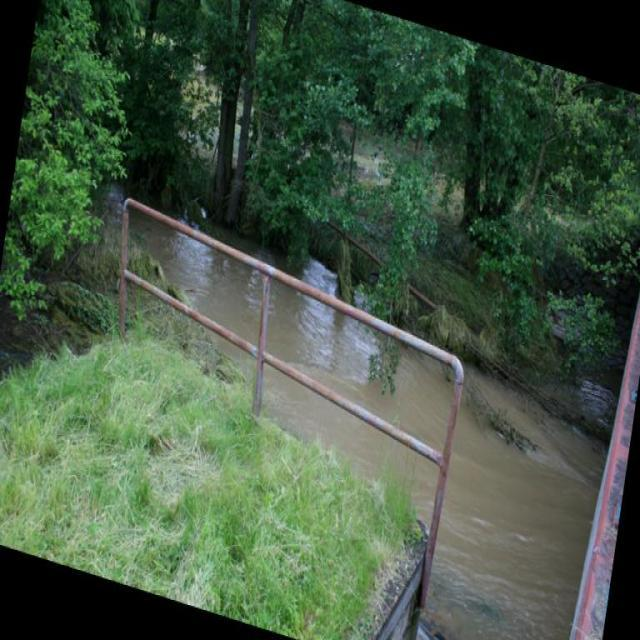flood: (87, 195, 620, 639)
